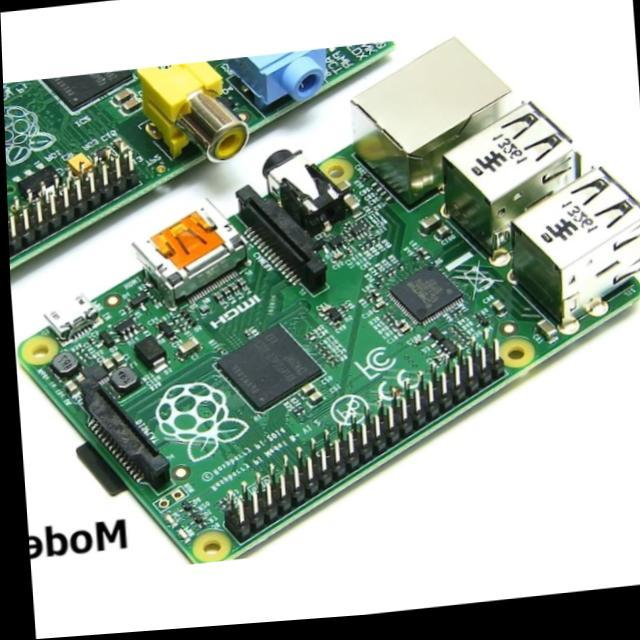Raspberry Pi 1 B-: (19, 39, 640, 563)
